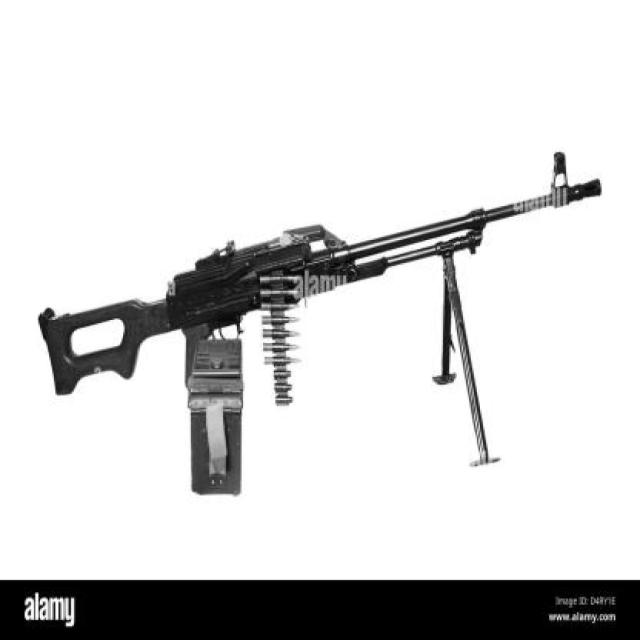weapon: (37, 148, 601, 500)
